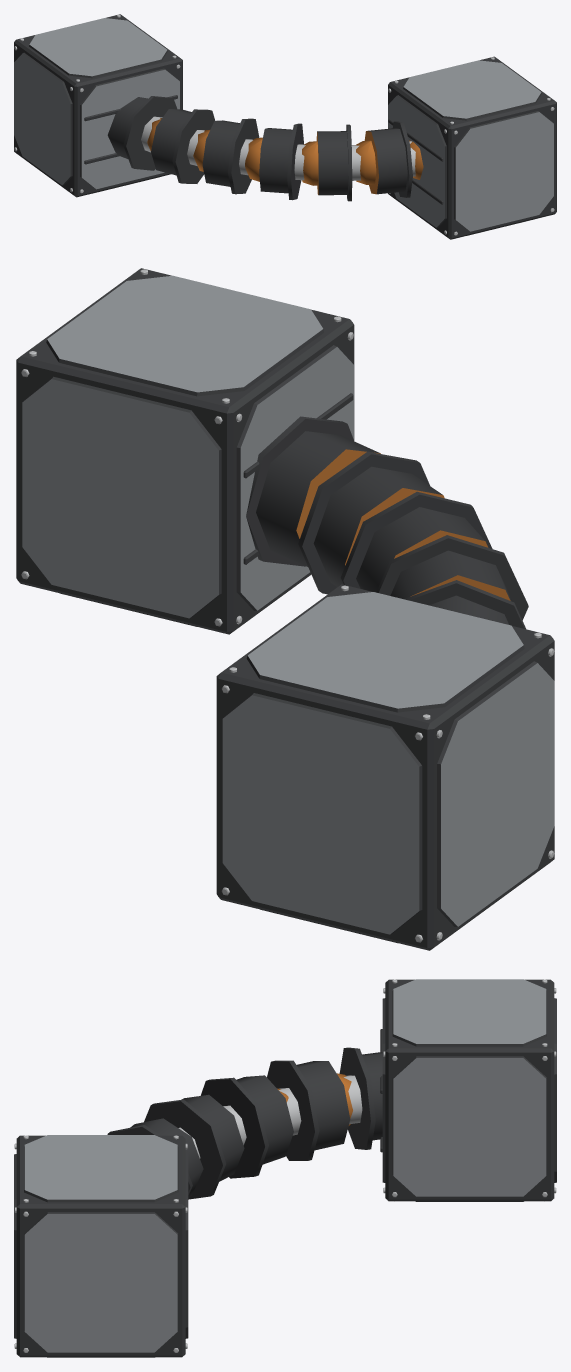
The model's file is R4C_STRUT_ARC.fbx.
The picture shows the model from 3 angles, top to bottom: view 1: azimuth 30°, elevation 25°; view 2: azimuth 150°, elevation 25°; view 3: azimuth 270°, elevation 25°; orthographic projection. The views are drawn at different scales.
Parts seen in each view (by area): view 1: R4C_STRUT_ARC; view 2: R4C_STRUT_ARC; view 3: R4C_STRUT_ARC.
Boxes of the visible parts, x1,y1,x2,y2 form: R4C_STRUT_ARC: (14,14,556,239); R4C_STRUT_ARC: (16,268,554,950); R4C_STRUT_ARC: (14,979,556,1357).
Size of the model in its own units: 1.62 by 0.52 by 1.62.
